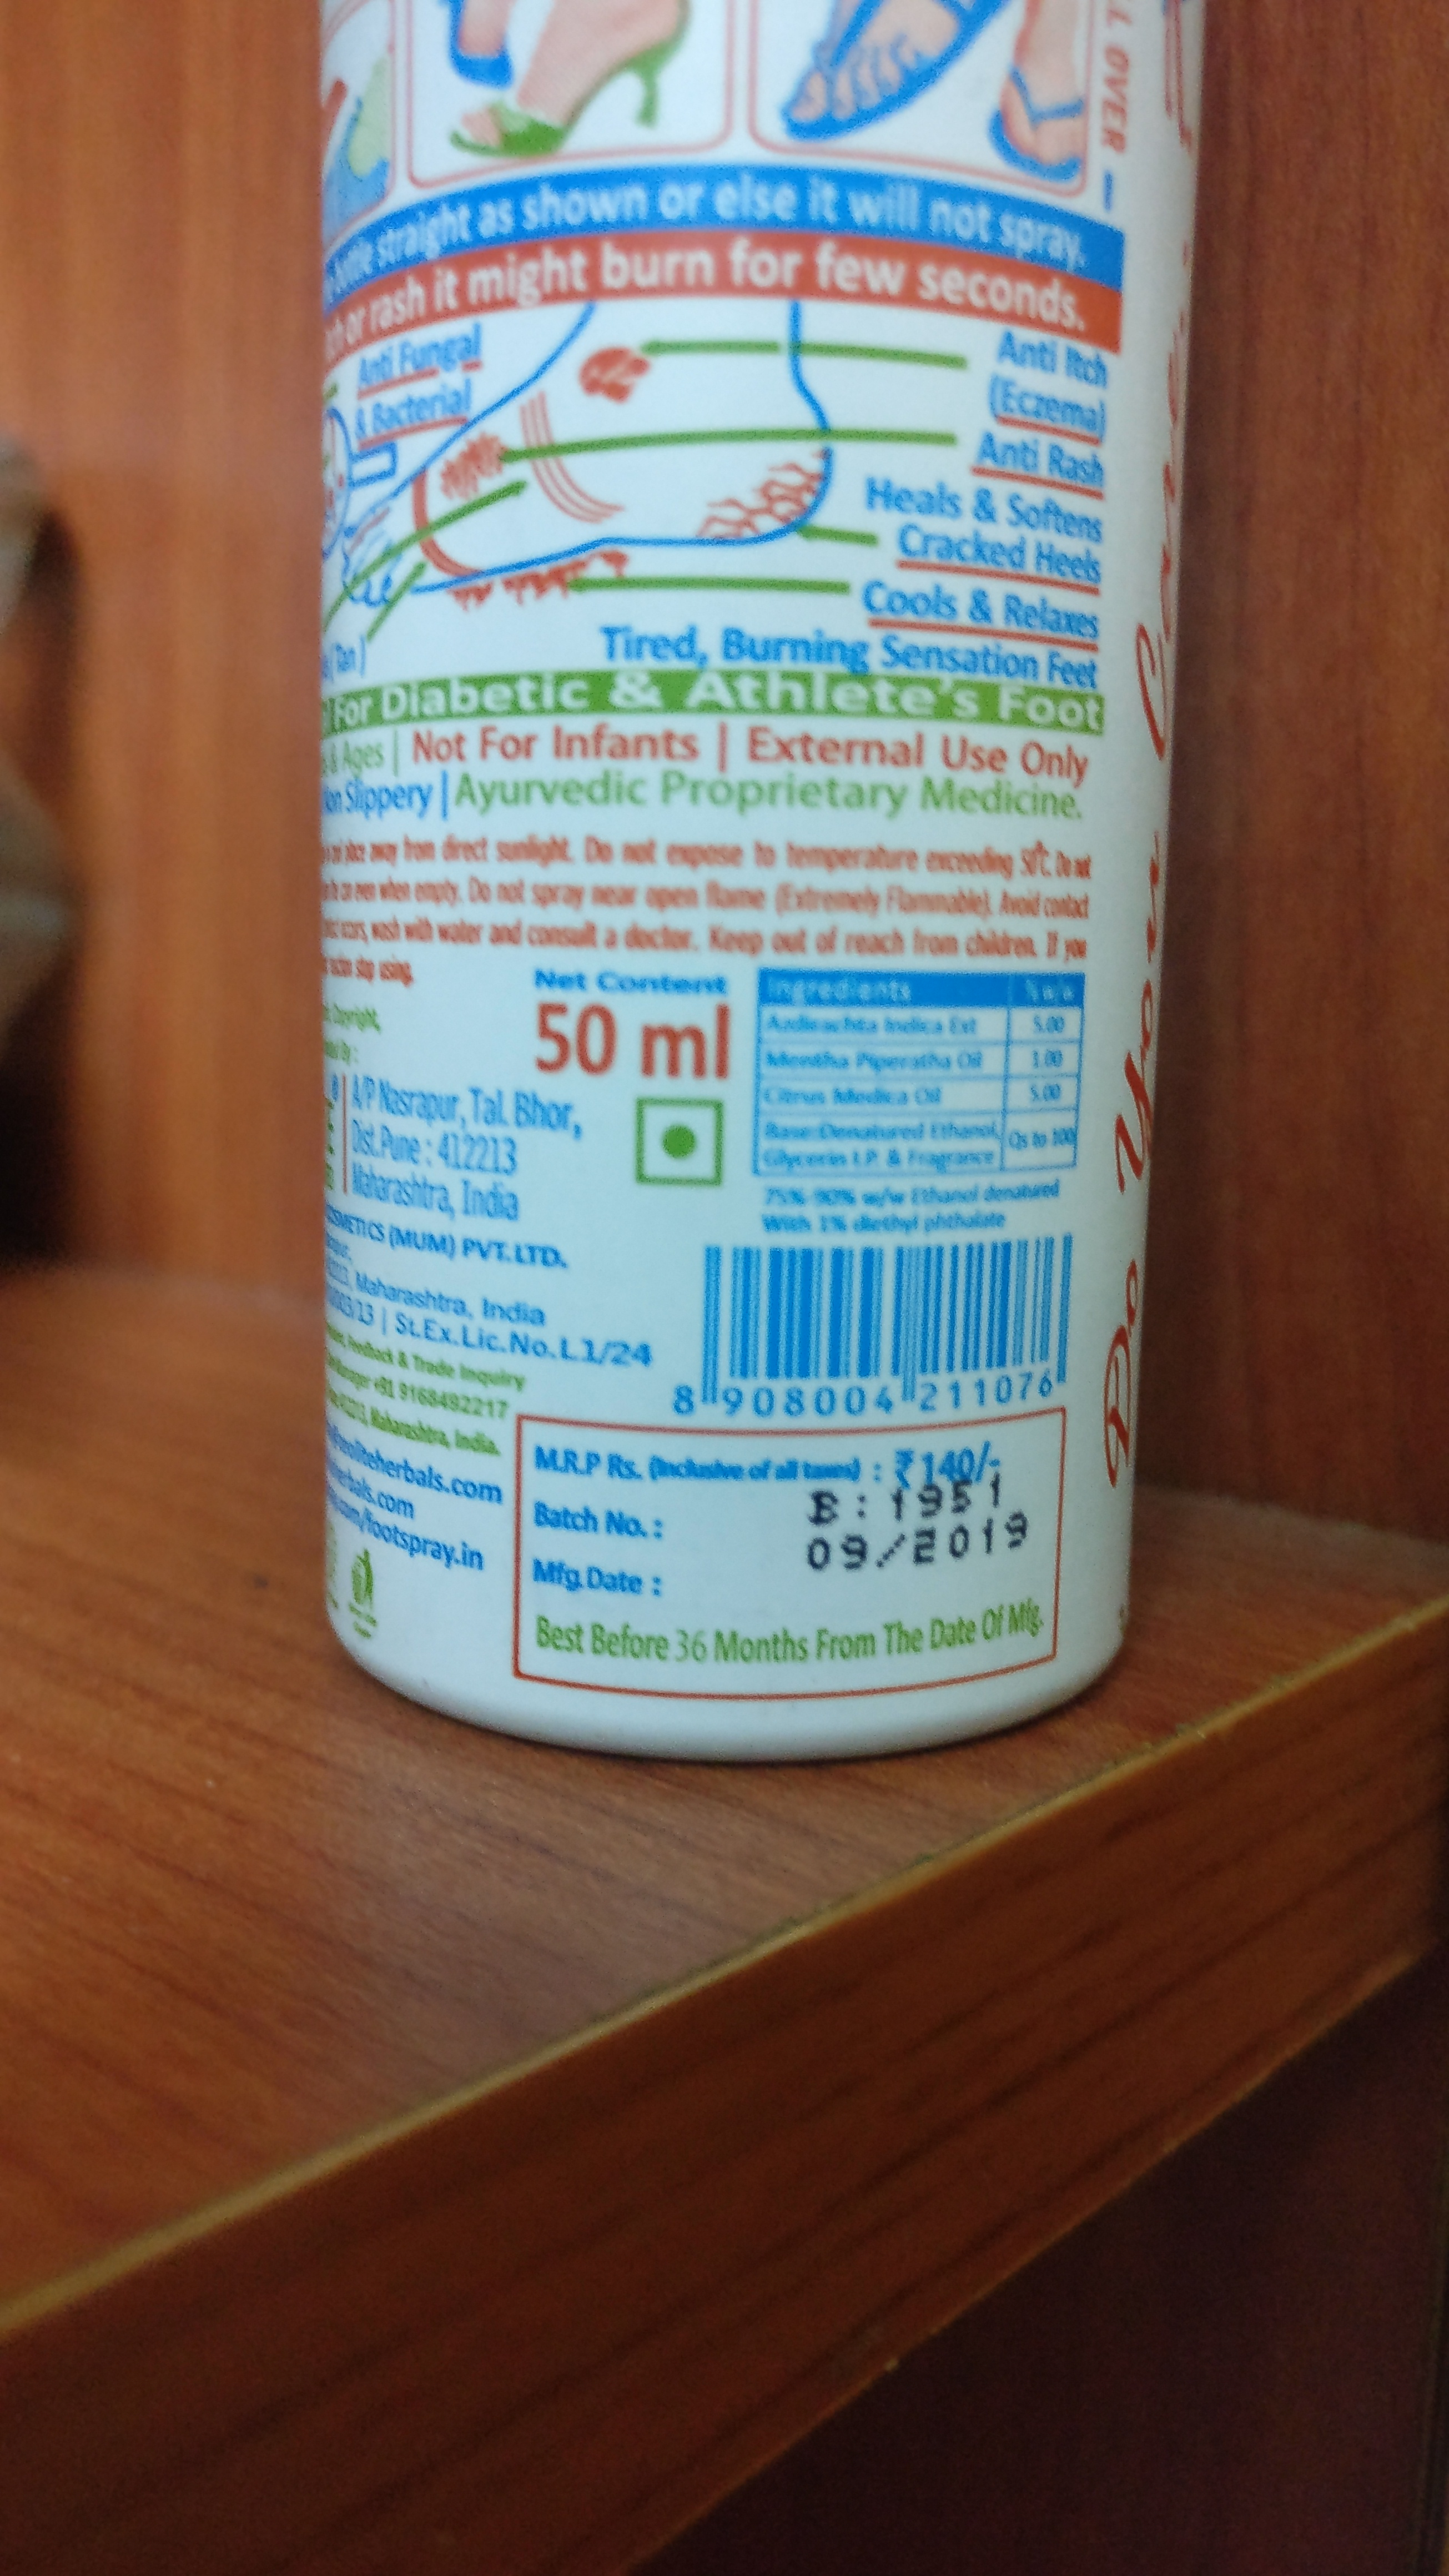barcode: (665, 1235, 1104, 1426)
